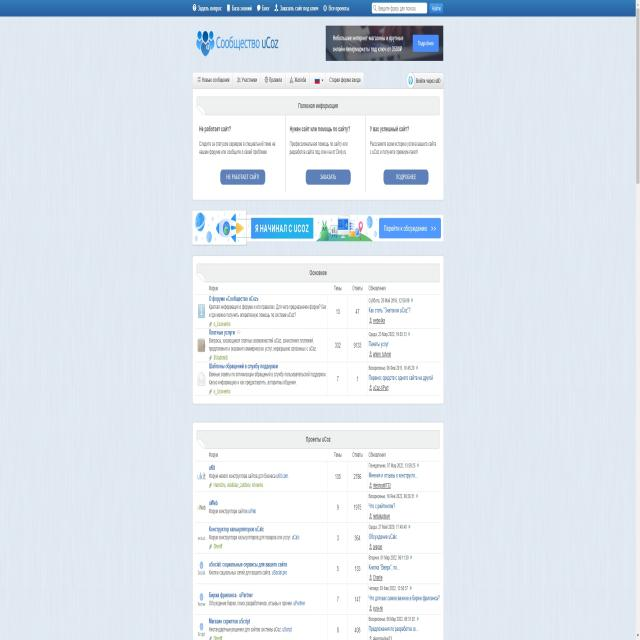tab-bar: (195, 70, 367, 90)
